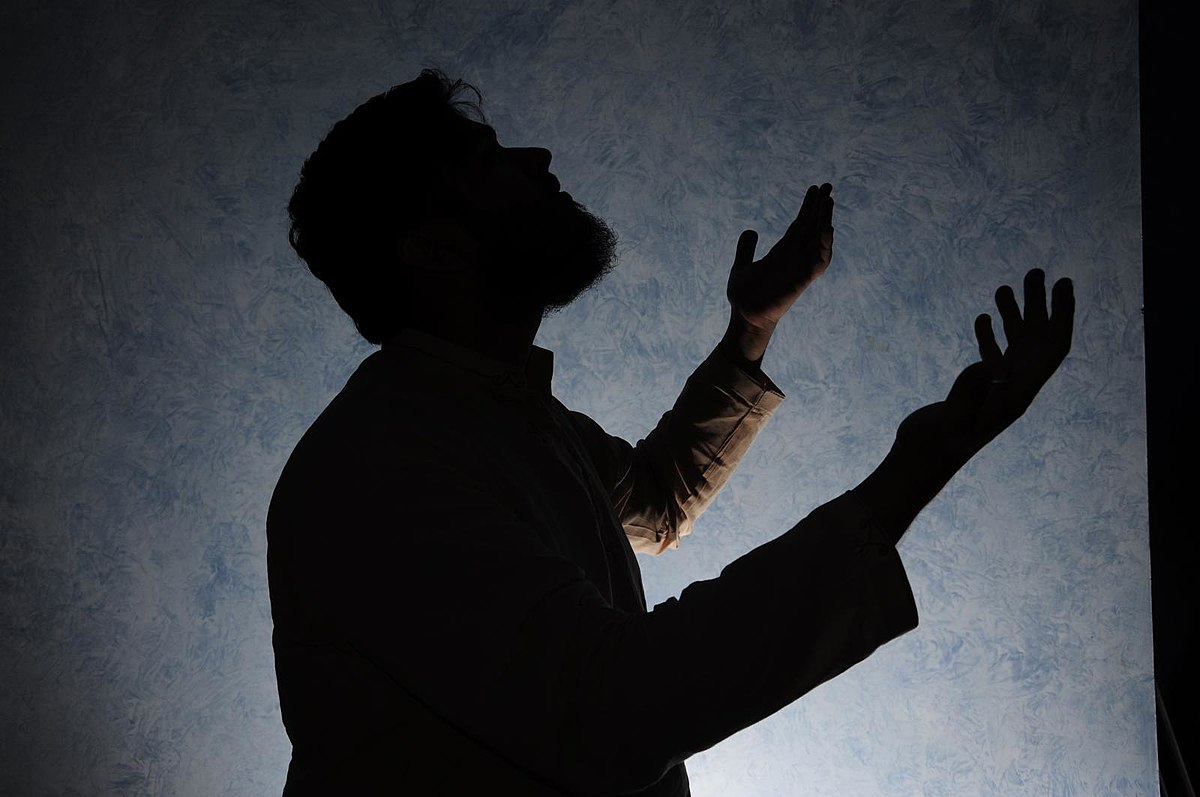finger: (1056, 274, 1089, 346), (1025, 267, 1051, 329), (994, 277, 1023, 332), (973, 309, 1003, 358)
